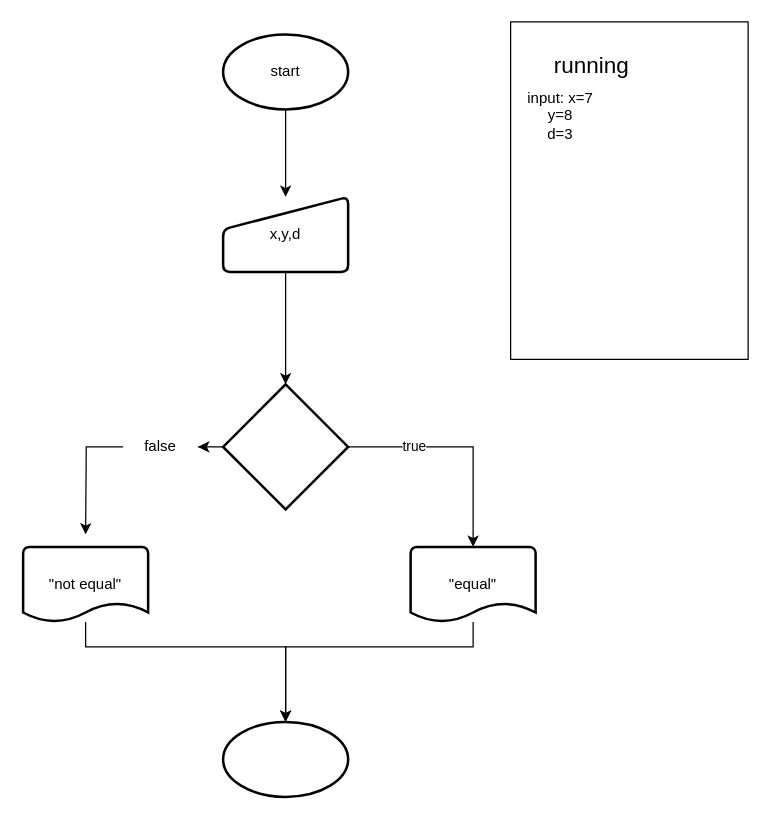
Image size: 770x820. Some labels were removed from this diagram. The shapes that lost their labels are listed below. From the top down, each one's centre as x and y in pixels, then its label:
At point 285,446: "if x=y and x=d".
At point 285,759: "end".
